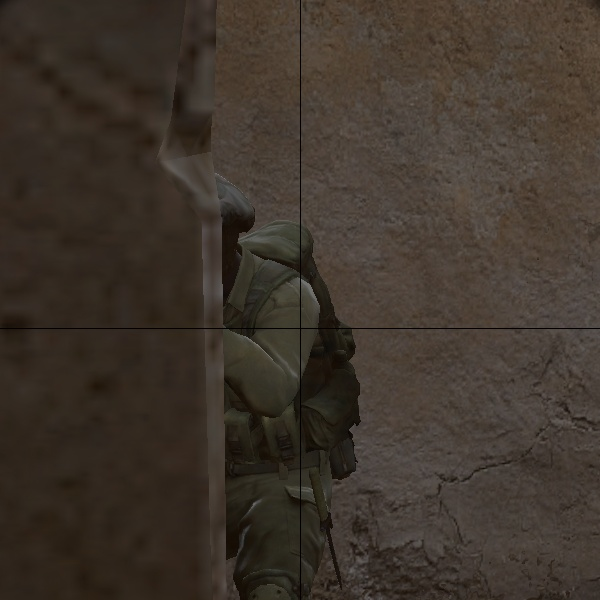ct_body: (211, 160, 353, 591)
ct_head: (217, 165, 272, 285)
